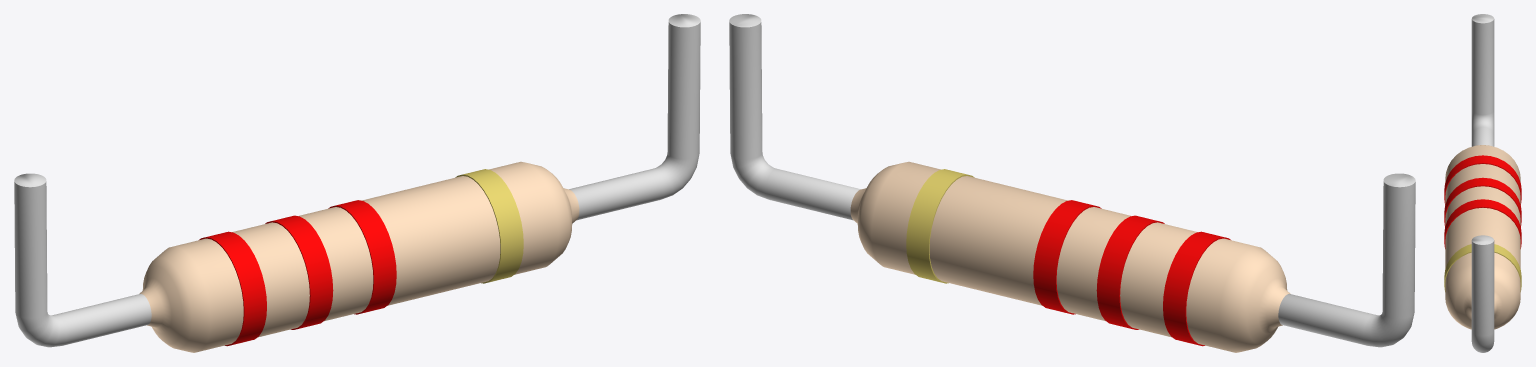
3 views of the same model, side by side, from view 1: azimuth 30°, elevation 25°; view 2: azimuth 150°, elevation 25°; view 3: azimuth 270°, elevation 25° (orthographic). The views are drawn at different scales.
Visible parts, largest first — view 1: RBody, Pin2, Pin1, Band3, Band1, Band2, Band4; view 2: RBody, Pin2, Pin1, Band3, Band1, Band2, Band4; view 3: RBody, Pin2, Pin1, Band2, Band3, Band1, Band4.
Boxes of the visible parts, x1=… form: RBody: x1=139, y1=161, x2=579, y2=352; Pin2: x1=14, y1=173, x2=151, y2=347; Pin1: x1=569, y1=14, x2=700, y2=220; Band3: x1=328, y1=200, x2=396, y2=314; Band1: x1=199, y1=231, x2=266, y2=346; Band2: x1=265, y1=215, x2=333, y2=329; Band4: x1=455, y1=169, x2=523, y2=283; RBody: x1=850, y1=161, x2=1290, y2=352; Pin2: x1=1278, y1=173, x2=1415, y2=347; Pin1: x1=729, y1=14, x2=860, y2=220; Band3: x1=1033, y1=200, x2=1101, y2=314; Band1: x1=1163, y1=231, x2=1230, y2=346; Band2: x1=1096, y1=215, x2=1164, y2=329; Band4: x1=906, y1=169, x2=974, y2=283; RBody: x1=1445, y1=145, x2=1520, y2=329; Pin2: x1=1471, y1=14, x2=1494, y2=146; Pin1: x1=1471, y1=235, x2=1494, y2=352; Band2: x1=1444, y1=177, x2=1521, y2=226; Band3: x1=1444, y1=199, x2=1521, y2=248; Band1: x1=1444, y1=155, x2=1521, y2=204; Band4: x1=1444, y1=244, x2=1521, y2=291.
Bounding box in the file's own units: 1426 × 415 × 202.
